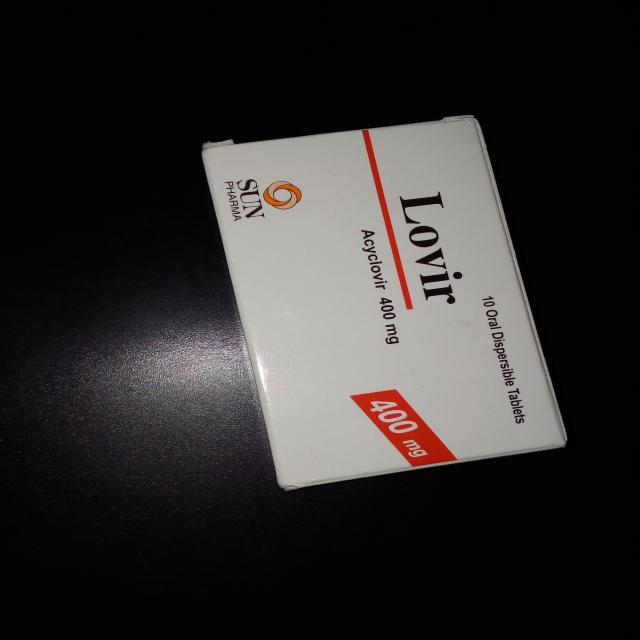Medicine: (196, 110, 573, 492)
